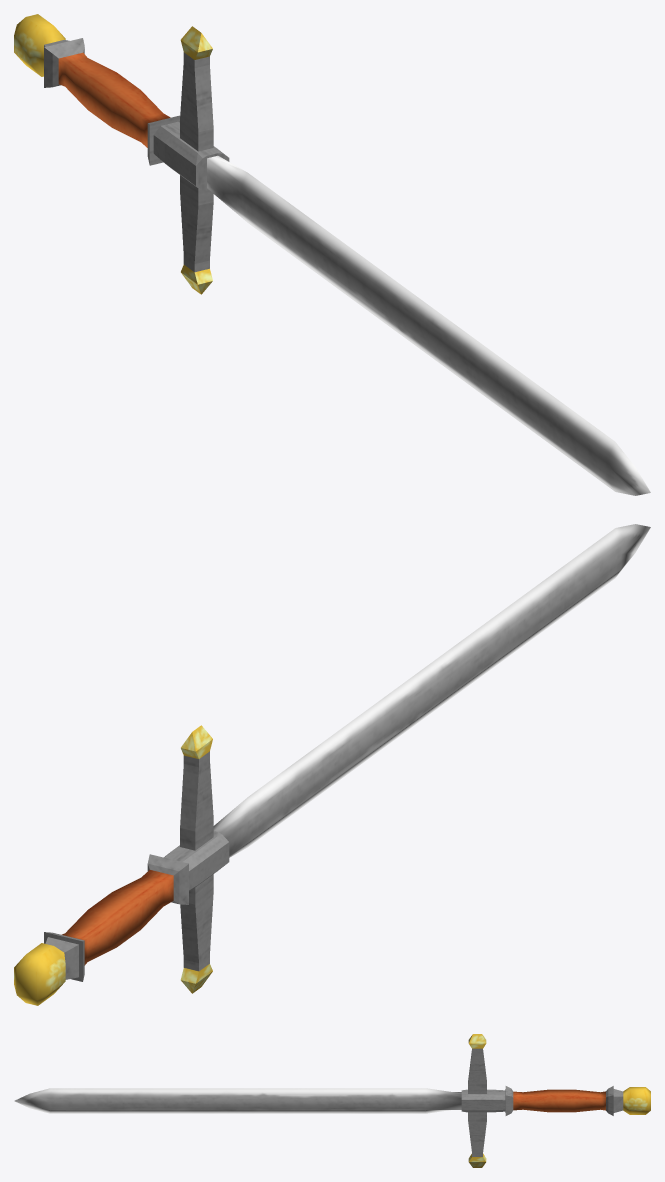
The model's file is SwordA.fbx.
3 views of the same model, one above another, from view 1: azimuth 30°, elevation 25°; view 2: azimuth 150°, elevation 25°; view 3: azimuth 270°, elevation 25° (orthographic). The views are drawn at different scales.
Visible parts, largest first — view 1: Sword; view 2: Sword; view 3: Sword.
Boxes of the visible parts, bbox=[...] form: Sword: bbox=[14, 14, 650, 495]; Sword: bbox=[14, 524, 650, 1005]; Sword: bbox=[14, 1034, 650, 1167].
Bounding box in the file's own units: 14.62 × 92.82 × 401.
